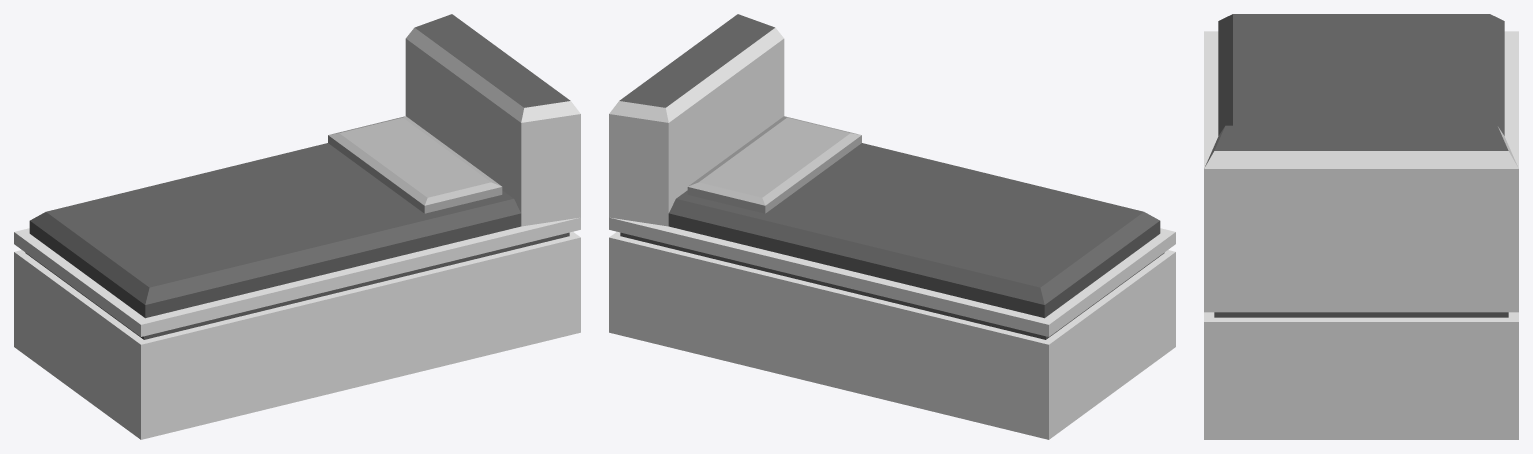
File: Bed_Single.fbx
3 views of the same model, side by side, from view 1: azimuth 30°, elevation 25°; view 2: azimuth 150°, elevation 25°; view 3: azimuth 270°, elevation 25° (orthographic). The views are drawn at different scales.
Parts seen in each view (by area): view 1: Cube.001; view 2: Cube.001; view 3: Cube.001.
Boxes of the visible parts, x1,y1,x2,y2 form: Cube.001: [14, 14, 580, 439]; Cube.001: [609, 14, 1175, 439]; Cube.001: [1204, 14, 1518, 439].
Bounding box in the file's own units: 200 × 100 × 100.
